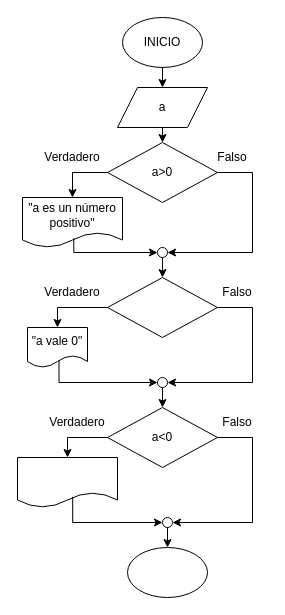
The diagram is 285 pixels wide and 615 high, and some of its shapes have lost their labels. Here are the shapes that lost their labels. From the top down, the centre of each, then its label:
point 162,307: a=0
point 67,482: "a es un número negativo"
point 167,572: FIN
